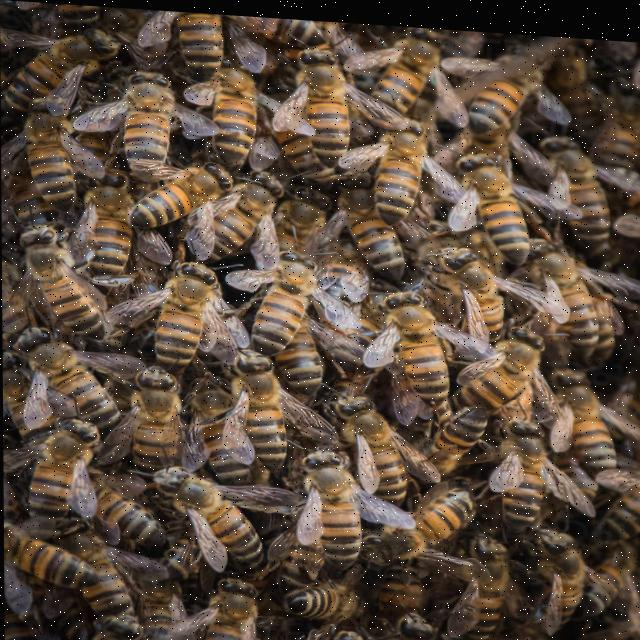Apis-mellifera-scutellata: (3, 208, 130, 372), (375, 274, 479, 420), (145, 464, 280, 570), (277, 34, 375, 169), (14, 89, 97, 228), (69, 498, 151, 630), (364, 479, 486, 565), (51, 410, 97, 610), (240, 228, 305, 368), (151, 247, 217, 383), (486, 304, 561, 423), (118, 60, 193, 179), (502, 392, 562, 537), (204, 59, 273, 178), (297, 445, 360, 572), (476, 36, 537, 153), (4, 526, 99, 597), (372, 20, 442, 113), (317, 231, 369, 341), (149, 9, 241, 71), (583, 337, 598, 467)
